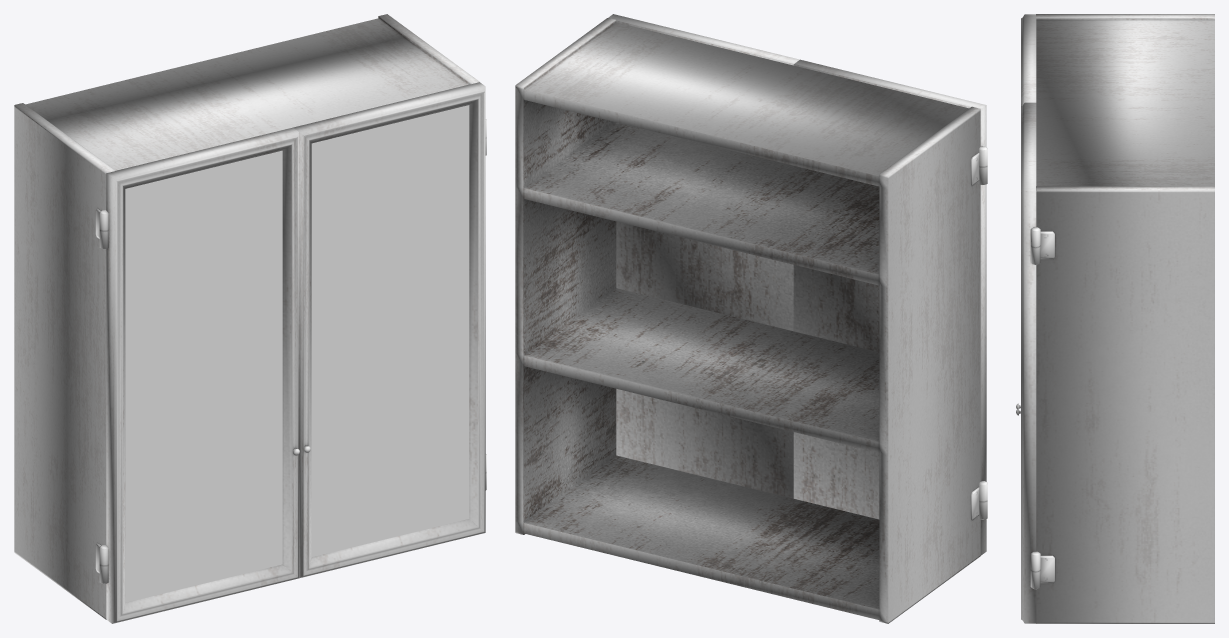
The model's file is bathroom-shelf.glb.
3 renders of one model, left to right at view 1: azimuth 30°, elevation 25°; view 2: azimuth 150°, elevation 25°; view 3: azimuth 270°, elevation 25°, orthographic. The views are drawn at different scales.
Parts seen in each view (by area): view 1: 1stFlr_Bathrooms_Shelf_Core, 1stFlr_Bathrooms_Shelf_Mirror_Right, 1stFlr_Bathrooms_Shelf_Mirror_Left, 1stFlr_Bathrooms_Shelf_Door_Left, 1stFlr_Bathrooms_Shelf_Door_Right; view 2: 1stFlr_Bathrooms_Shelf_Core, 1stFlr_Bathrooms_Shelf_Door_Right, 1stFlr_Bathrooms_Shelf_Door_Left; view 3: 1stFlr_Bathrooms_Shelf_Core, 1stFlr_Bathrooms_Shelf_Door_Right, 1stFlr_Bathrooms_Shelf_Door_Left.
Boxes of the visible parts, left/top/right/bottom form: 1stFlr_Bathrooms_Shelf_Core: left=14, top=14, right=479, bottom=619; 1stFlr_Bathrooms_Shelf_Mirror_Right: left=311, top=105, right=469, bottom=556; 1stFlr_Bathrooms_Shelf_Mirror_Left: left=125, top=150, right=282, bottom=602; 1stFlr_Bathrooms_Shelf_Door_Left: left=99, top=127, right=299, bottom=623; 1stFlr_Bathrooms_Shelf_Door_Right: left=293, top=82, right=486, bottom=578; 1stFlr_Bathrooms_Shelf_Core: left=515, top=18, right=980, bottom=623; 1stFlr_Bathrooms_Shelf_Door_Right: left=608, top=14, right=799, bottom=498; 1stFlr_Bathrooms_Shelf_Door_Left: left=793, top=59, right=987, bottom=555; 1stFlr_Bathrooms_Shelf_Core: left=1036, top=14, right=1214, bottom=623; 1stFlr_Bathrooms_Shelf_Door_Right: left=1016, top=102, right=1040, bottom=623; 1stFlr_Bathrooms_Shelf_Door_Left: left=1016, top=14, right=1036, bottom=409.
Bounding box in the file's own units: 72.61 × 80.27 × 33.36.
2 materials, 1 textured.
